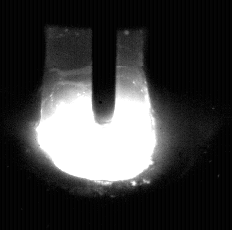arame: (93, 0, 116, 125)
poca: (36, 0, 157, 230)
